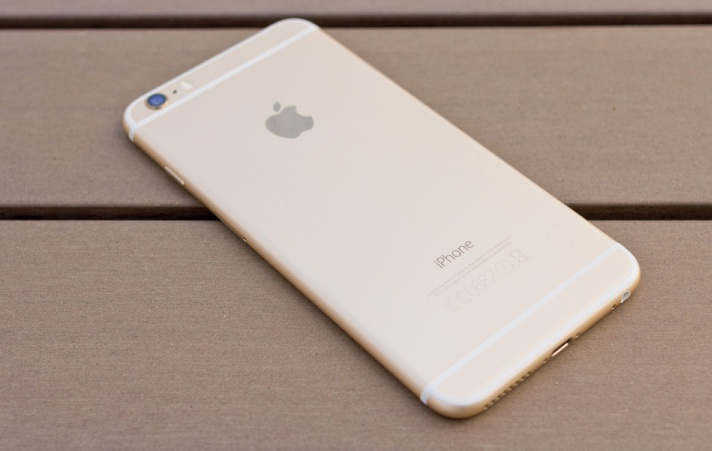apple: (240, 90, 320, 154)
